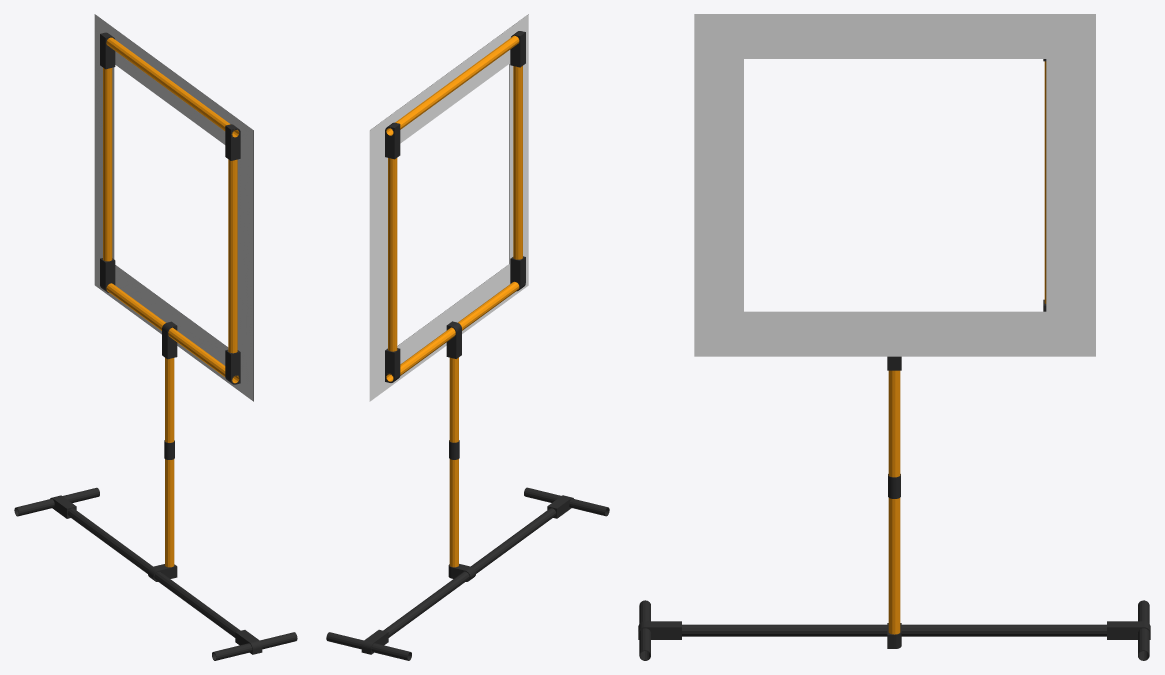
File: gate.dae
The picture shows the model from 3 angles, left to right: view 1: azimuth 30°, elevation 25°; view 2: azimuth 150°, elevation 25°; view 3: azimuth 270°, elevation 25°; orthographic projection. The views are drawn at different scales.
Visible parts, largest first — view 1: gate; view 2: gate; view 3: gate.
Boxes of the visible parts, x1,y1,x2,y2 form: gate: [14, 14, 297, 660]; gate: [326, 14, 609, 660]; gate: [638, 14, 1150, 660].
Size of the model in its own units: 0.5 by 2.17 by 2.97.
Materials: 1 (1 with a texture image).
